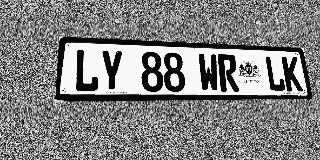8: (141, 51, 164, 92), (163, 52, 186, 92)
K: (281, 56, 303, 92)
L: (74, 49, 99, 92), (264, 56, 286, 92)
R: (217, 54, 240, 92)
W: (198, 53, 220, 92)
Y: (100, 50, 123, 92)
